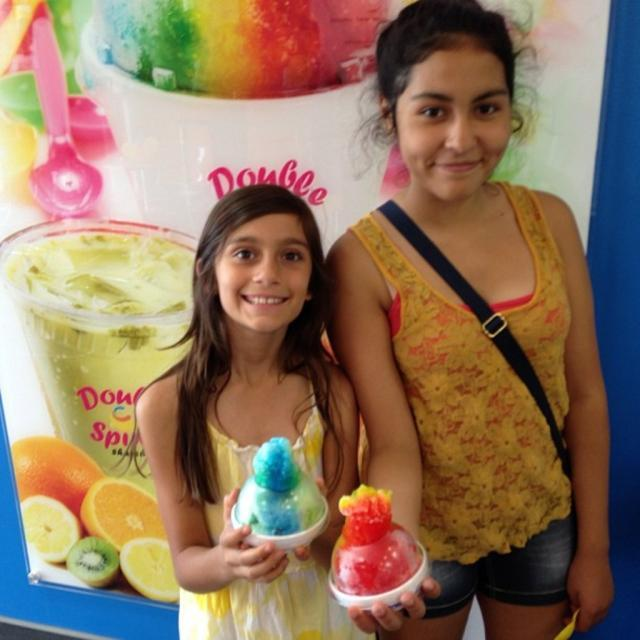Juice: (12, 213, 194, 549)
